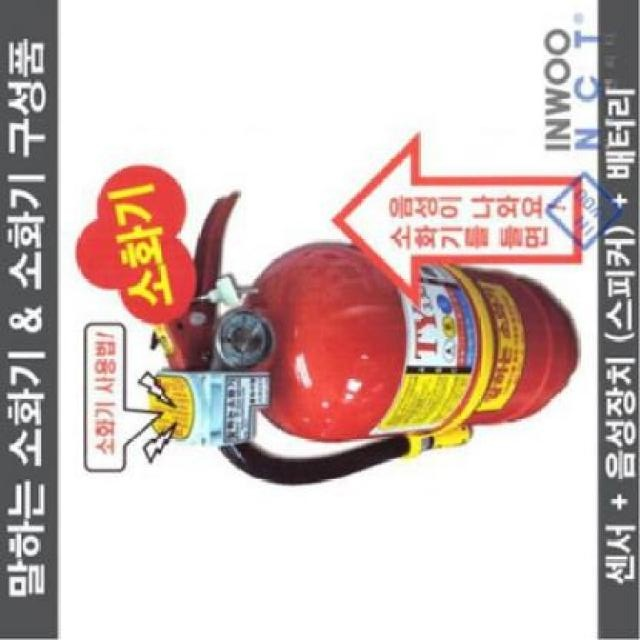fire extinguisher: (148, 189, 580, 488)
